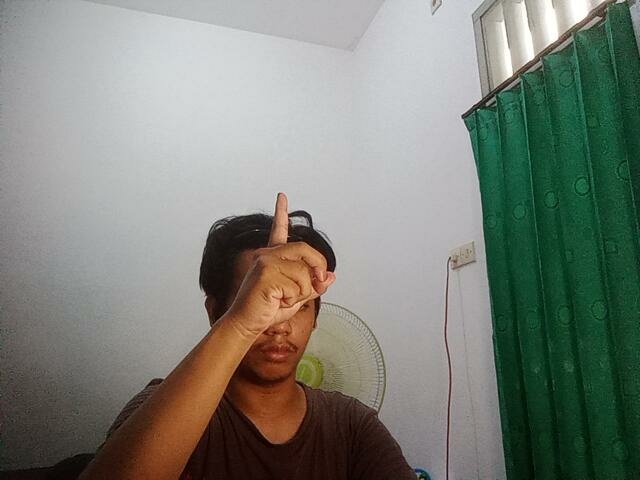D: (225, 184, 343, 336)
